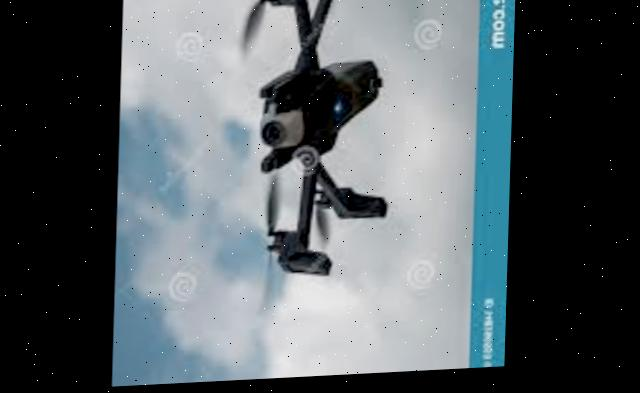drone: (235, 0, 412, 301)
